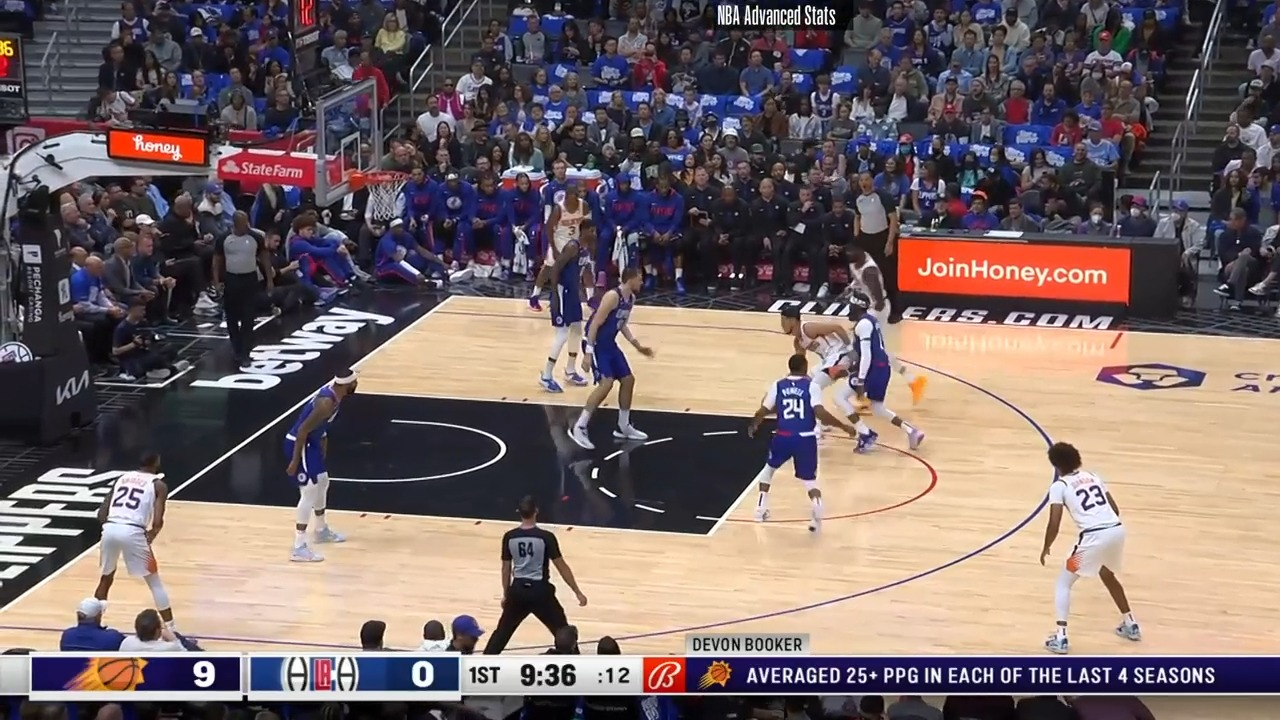net: (345, 165, 410, 218)
player: (1042, 440, 1147, 655), (87, 450, 183, 635), (743, 351, 830, 539), (572, 269, 657, 452), (829, 287, 921, 456), (837, 238, 930, 405), (283, 359, 356, 562), (780, 306, 872, 458), (539, 222, 603, 399), (531, 187, 592, 320)
referee: (488, 502, 593, 660), (214, 209, 277, 376), (846, 175, 900, 321)
